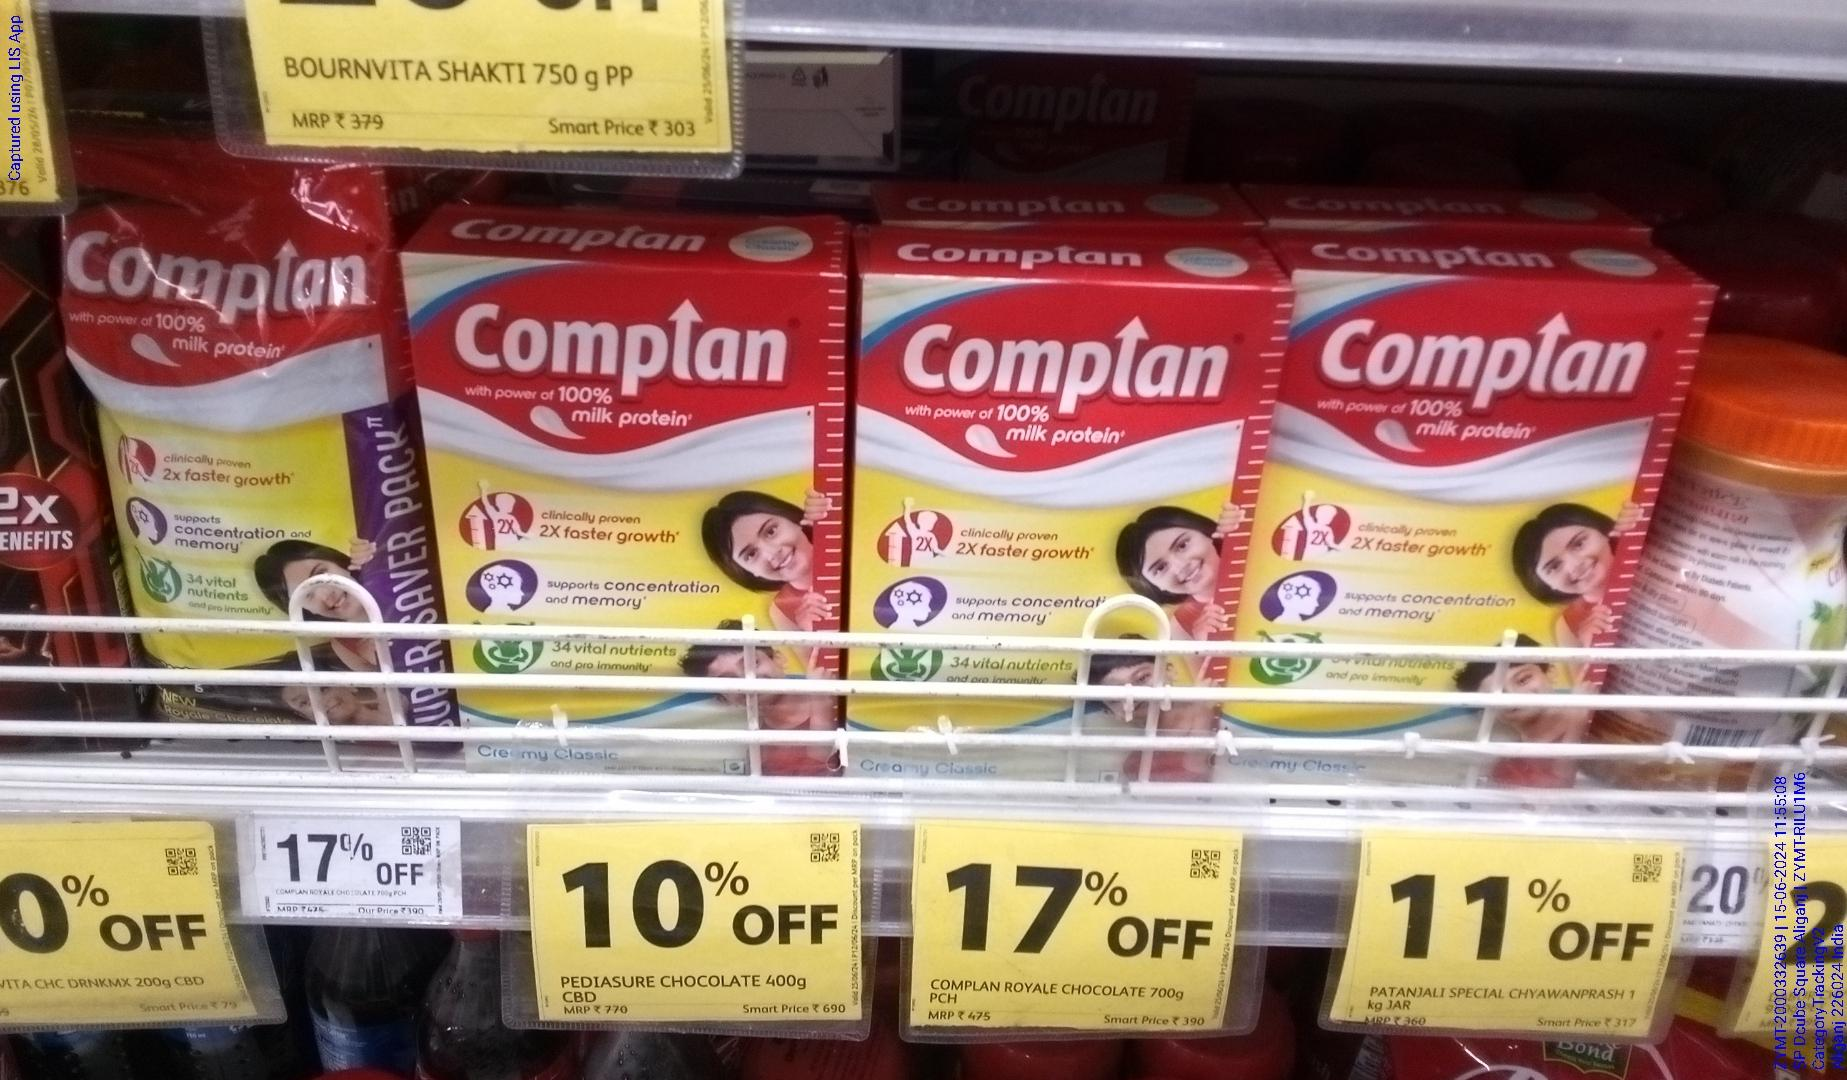COMPLAN_CREAMY_CLASSIC_500_G_PACK: (429, 252, 843, 775), (1233, 282, 1589, 805), (861, 273, 1218, 791)
COMPLAN_RC_POUCH_700_GMS_12: (76, 171, 392, 751)
